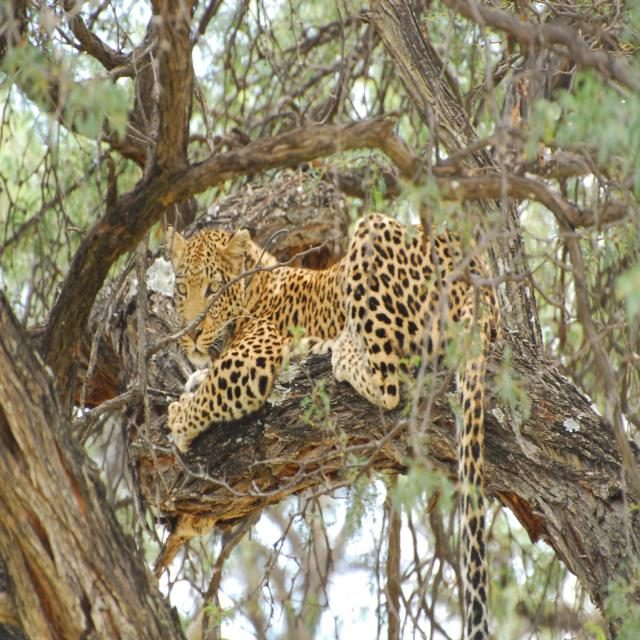Leopard: (149, 204, 484, 640)
